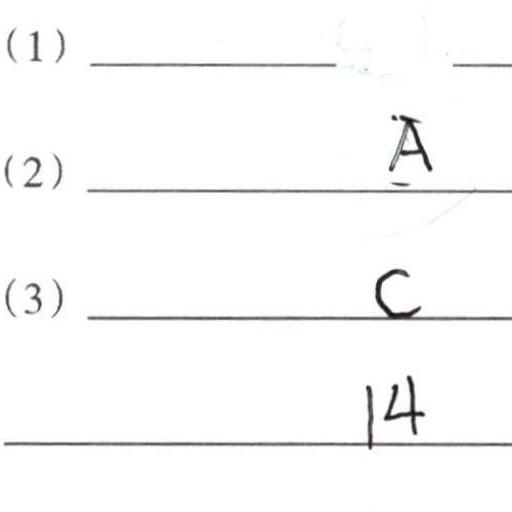ans: (361, 372, 425, 446), (372, 267, 423, 320), (388, 114, 432, 174)
